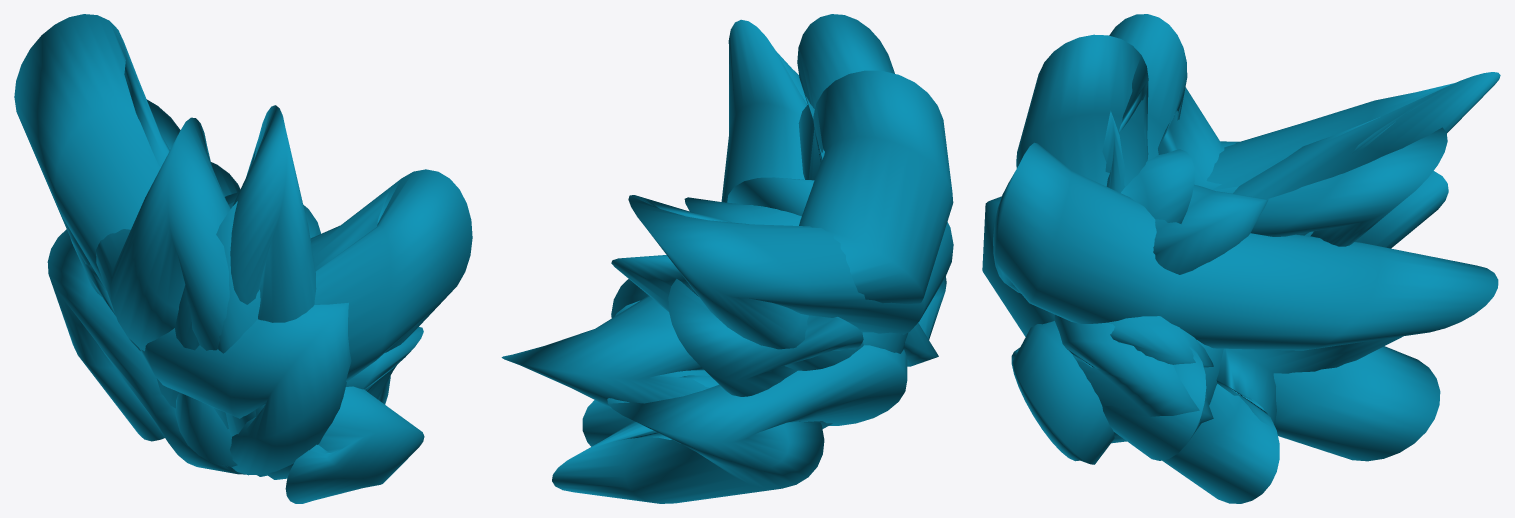
3 views of the same model, side by side, from view 1: azimuth 30°, elevation 25°; view 2: azimuth 150°, elevation 25°; view 3: azimuth 270°, elevation 25° (orthographic). The views are drawn at different scales.
Visible parts, largest first — view 1: AG_CE; view 2: AG_CE; view 3: AG_CE.
Part boxes in pixels (x1,y1,x2,y2): AG_CE: (14, 14, 472, 503); AG_CE: (501, 14, 953, 503); AG_CE: (982, 14, 1500, 503).
Bounding box in the file's own units: 8.35 × 11.26 × 12.66.
